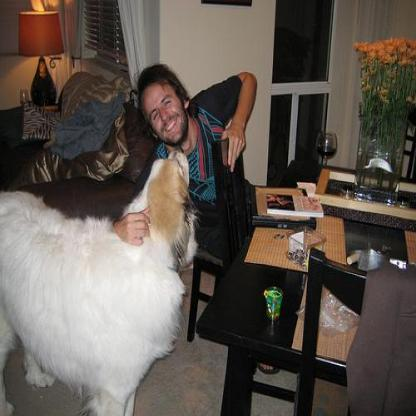Great_Pyrenees: (0, 143, 200, 414)
